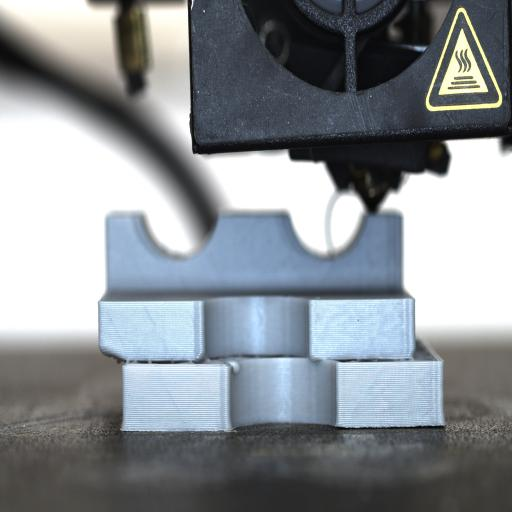layer_shift: (99, 347, 444, 370)
